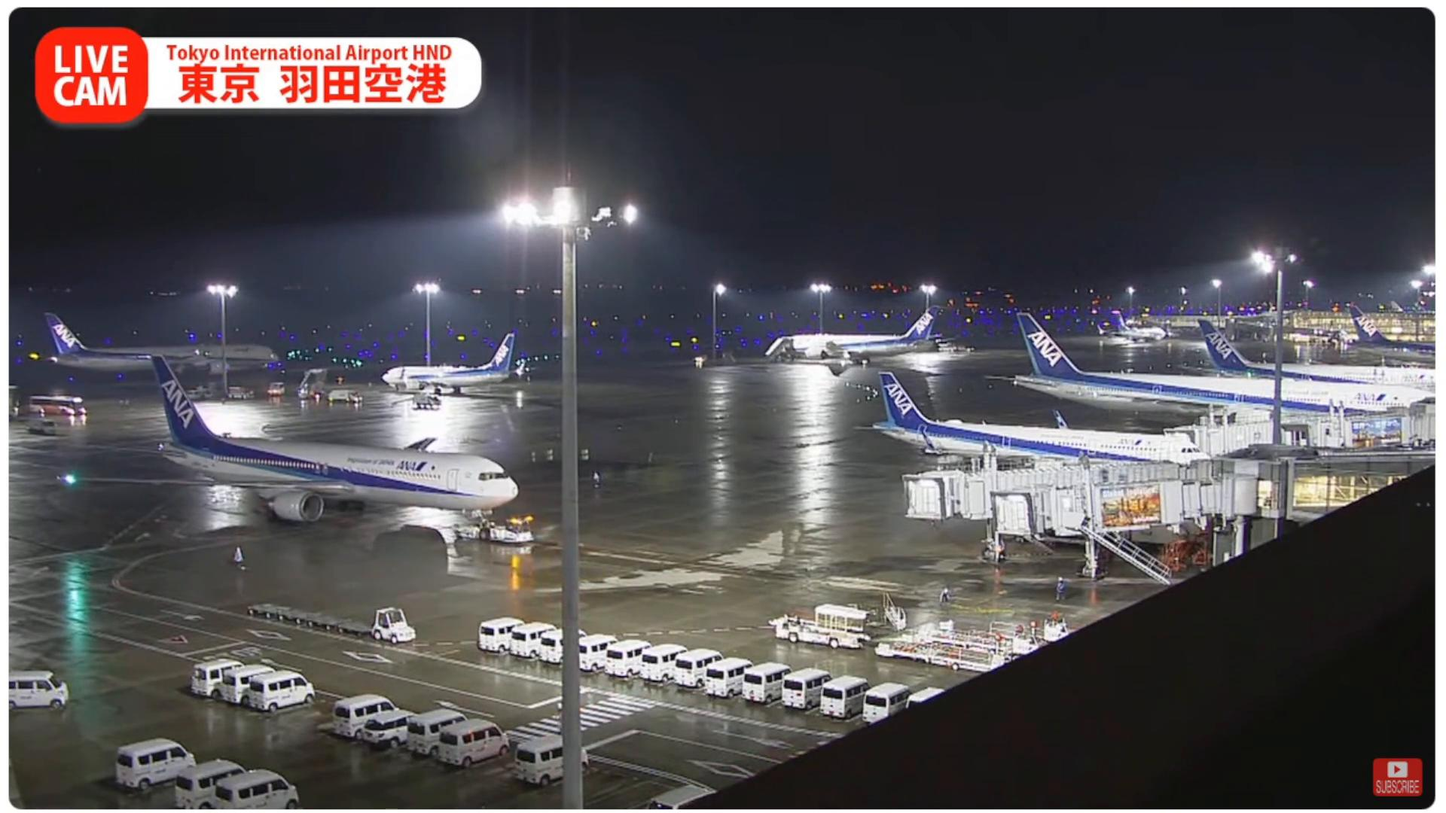Aerobridge: (895, 461, 1219, 524), (992, 475, 1249, 541)
Airplane: (54, 354, 524, 527)
Dolly: (245, 595, 373, 641)
JCPL: (863, 638, 1018, 673), (895, 625, 1050, 656)
Skyloader: (758, 598, 872, 653)
Tow Tug: (449, 516, 537, 545)
Tractor: (369, 607, 423, 645)
Window: (1293, 468, 1419, 517)
